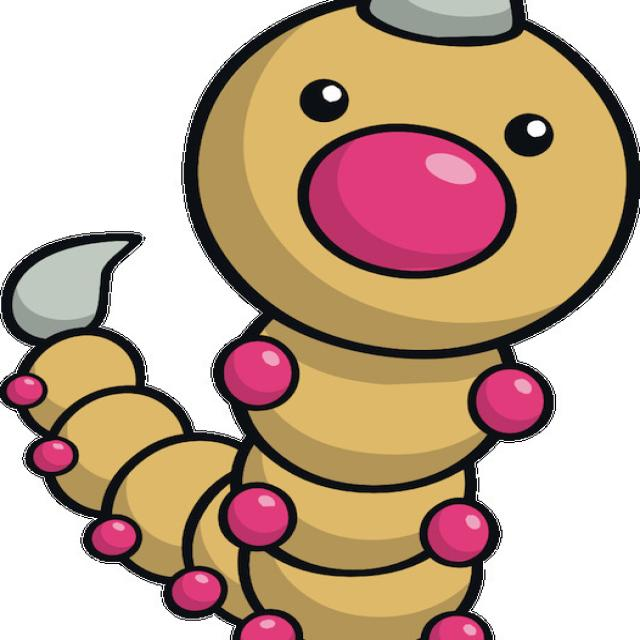Weedle: (0, 0, 629, 640)
